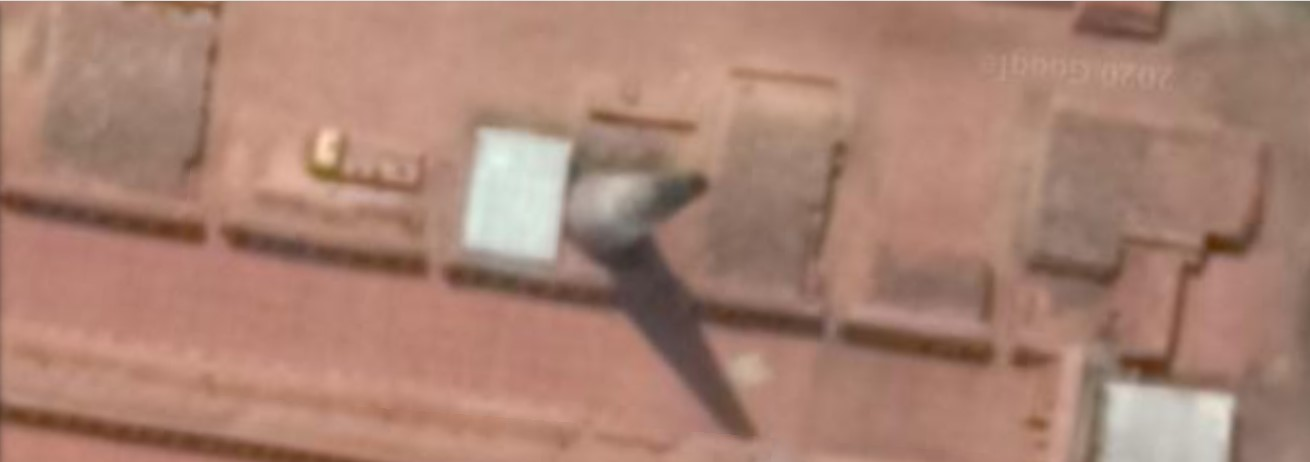kiln: (396, 28, 867, 444)
